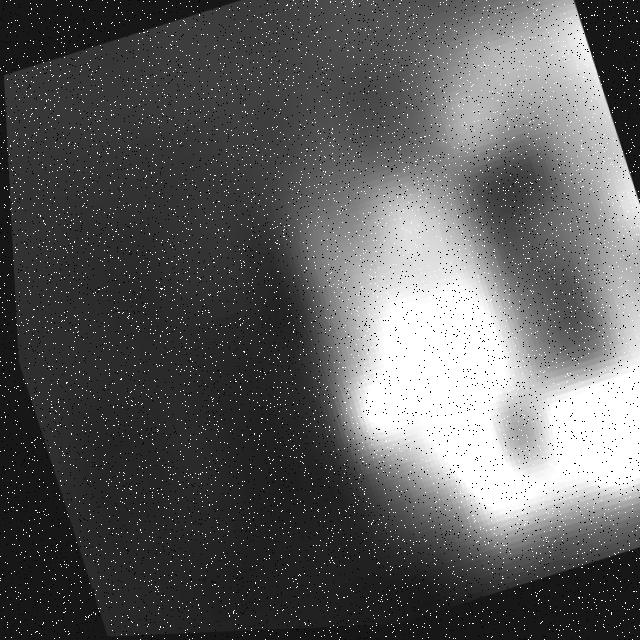person: (236, 68, 565, 631), (391, 1, 640, 579)
